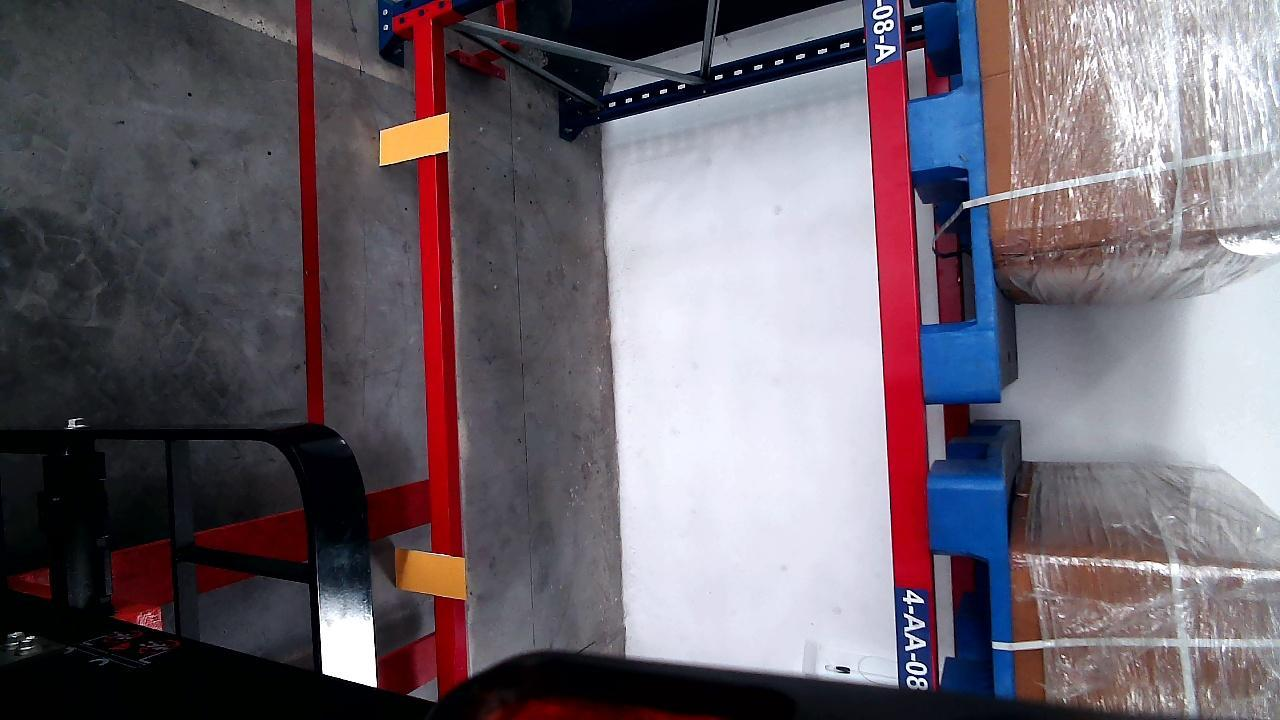red_line: (297, 0, 325, 437)
